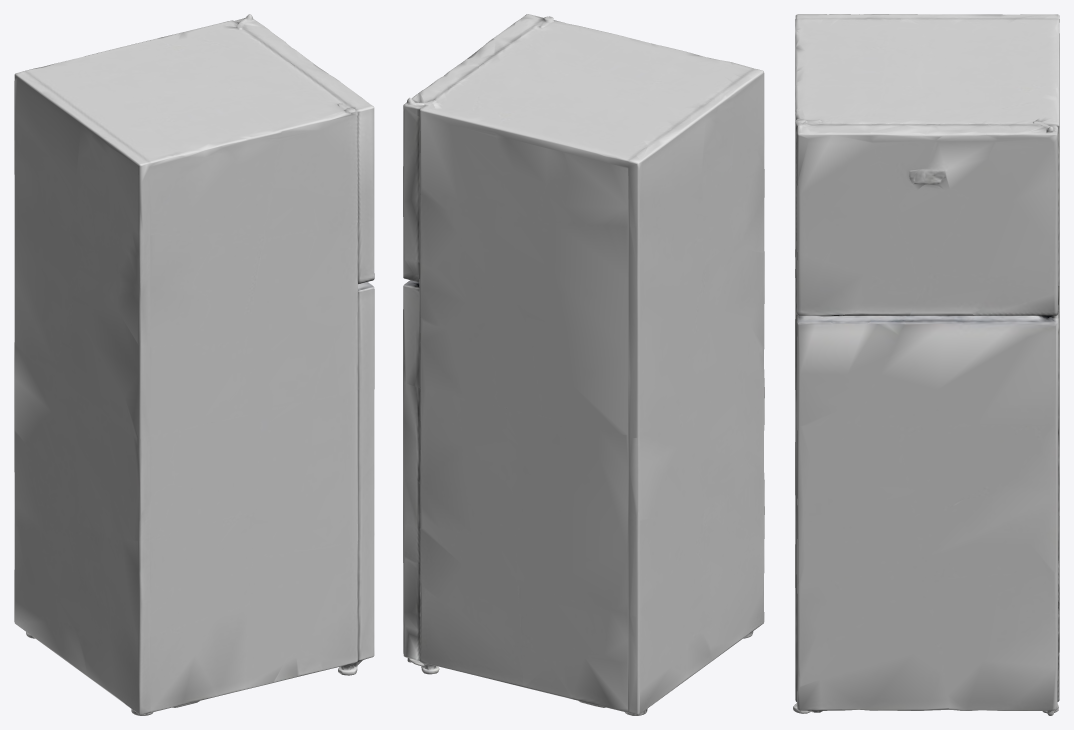
The model's file is refregator(512).glb.
3 renders of one model, left to right at view 1: azimuth 30°, elevation 25°; view 2: azimuth 150°, elevation 25°; view 3: azimuth 270°, elevation 25°, orthographic. The views are drawn at different scales.
Parts seen in each view (by area): view 1: white_refrigerator_3d_model_LOD0; view 2: white_refrigerator_3d_model_LOD0; view 3: white_refrigerator_3d_model_LOD0.
Boxes of the visible parts, x1,y1,x2,y2 form: white_refrigerator_3d_model_LOD0: (14, 14, 374, 715); white_refrigerator_3d_model_LOD0: (403, 14, 764, 715); white_refrigerator_3d_model_LOD0: (793, 14, 1059, 715).
Size of what is drawn, in the model's own units: 0.4376 by 1 by 0.4072.
Materials: 1 (1 with a texture image).
